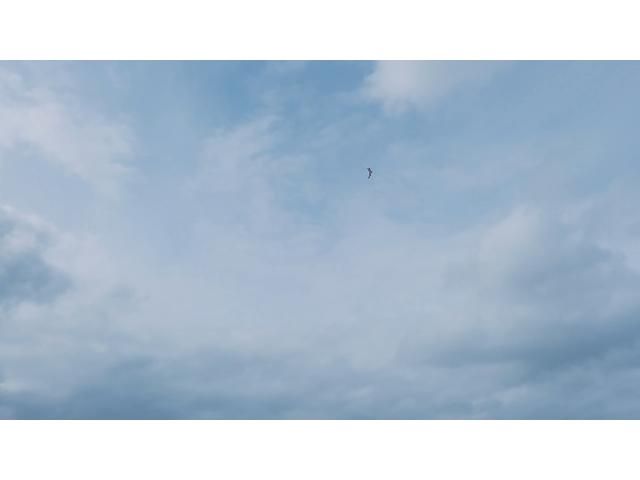Anti-Drone: (364, 166, 374, 180)
